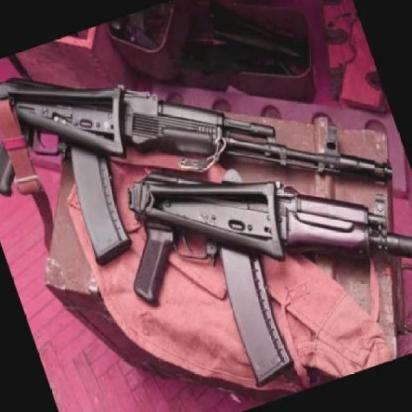Gun: (0, 0, 393, 310), (105, 91, 412, 407)
